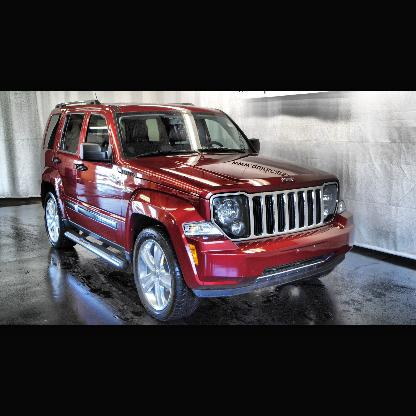Jeep Liberty SUV 2012: (41, 100, 357, 322)
